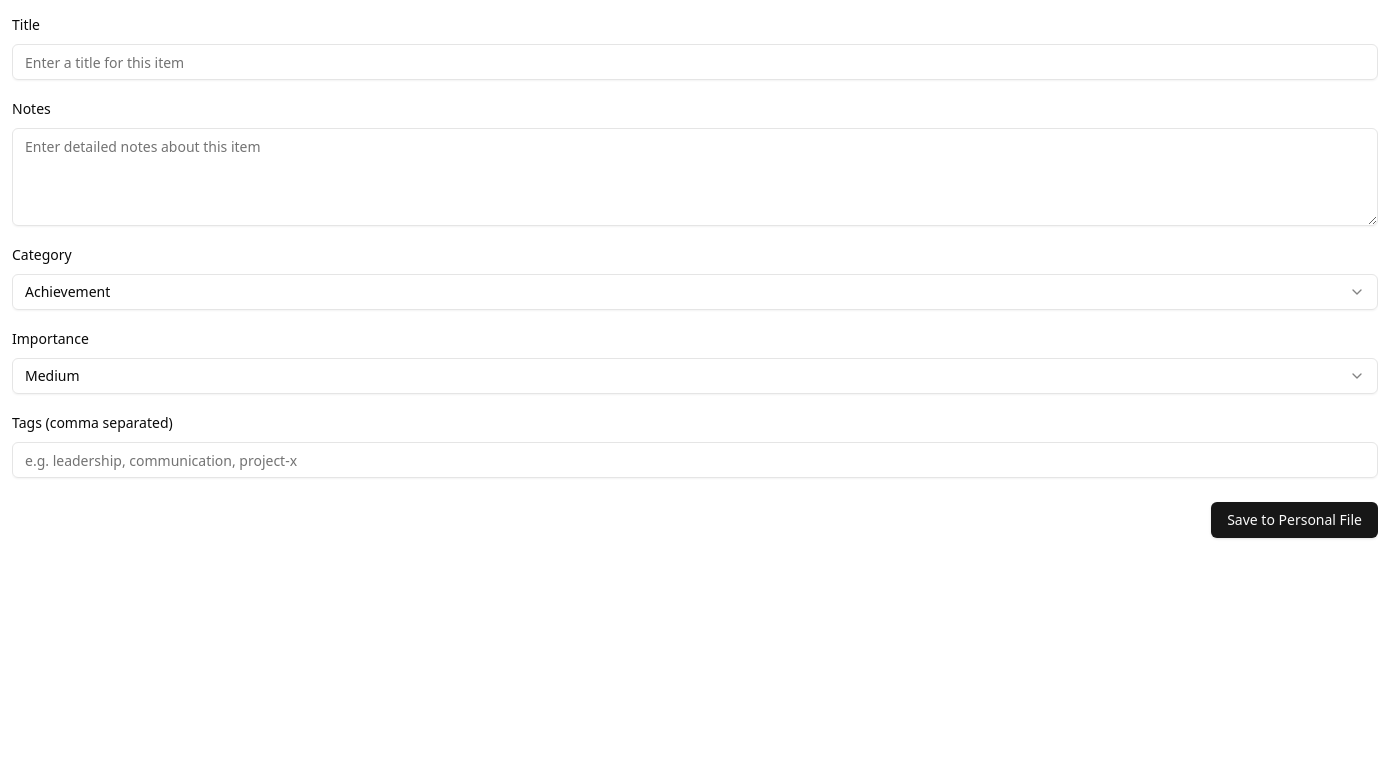
Scenario: PersonalFileItemForm › shows loading state during submission
# Fill and submit form
Type "Test Item" into the field labelled "Title" at (695, 62), box left=12, top=44, right=1378, bottom=80
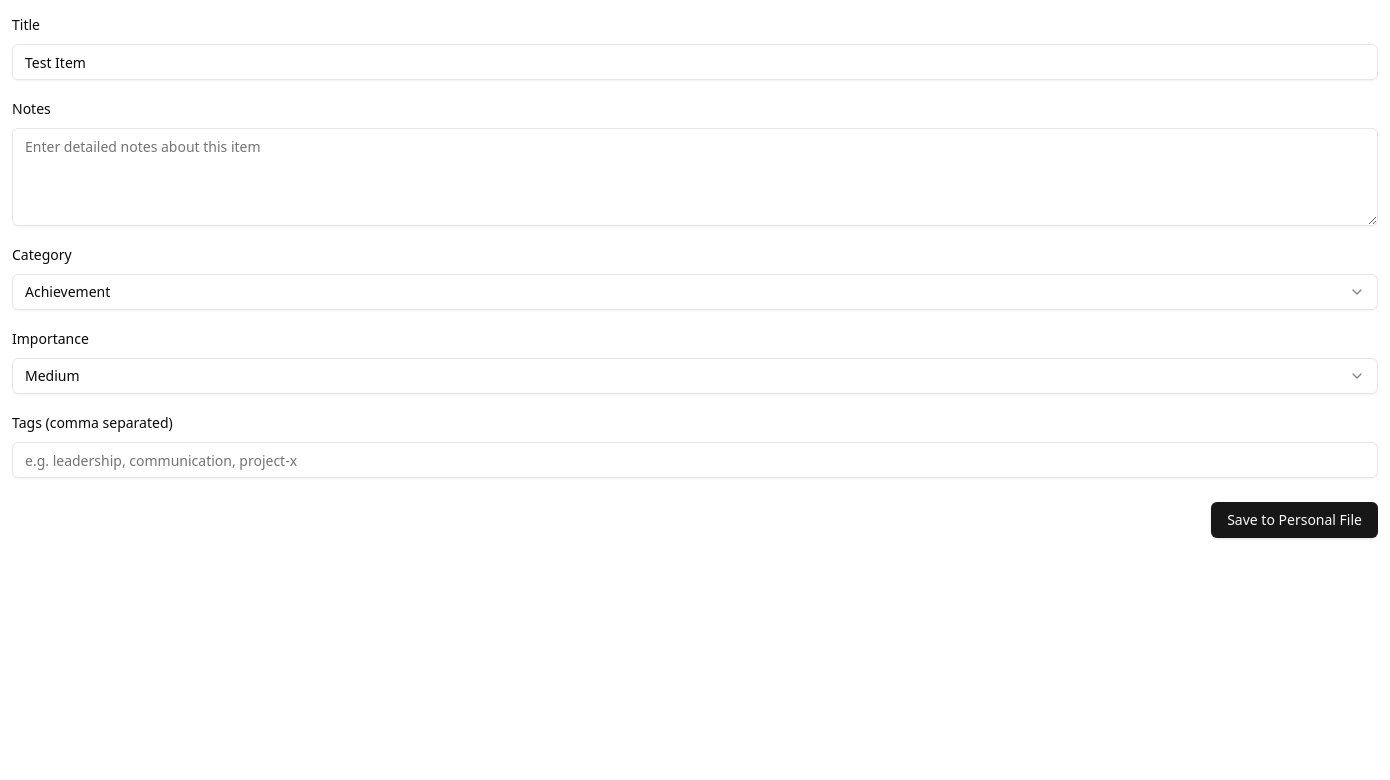
Click the button "Save to Personal File" at (1295, 520), box left=1211, top=502, right=1378, bottom=538
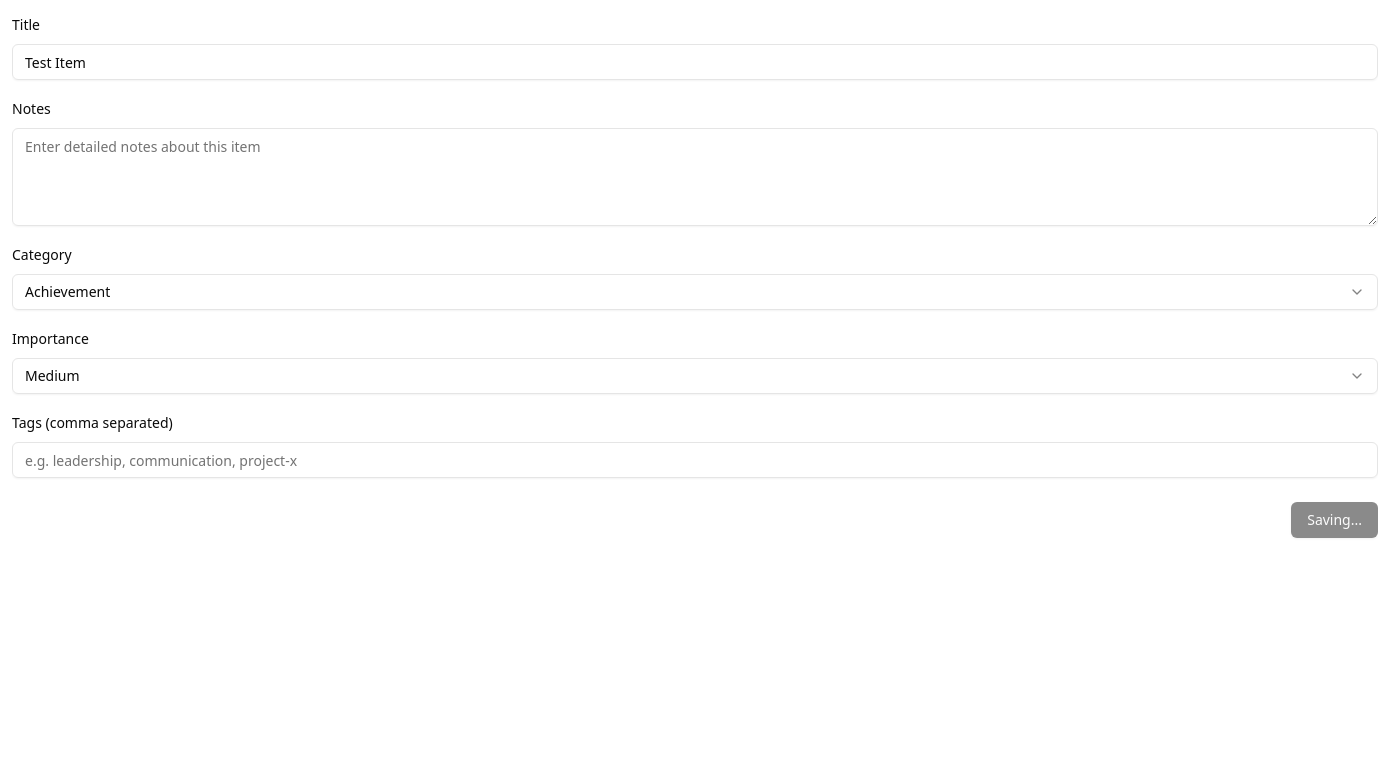
Now the button "Saving..." is disabled, box left=1291, top=502, right=1378, bottom=538
